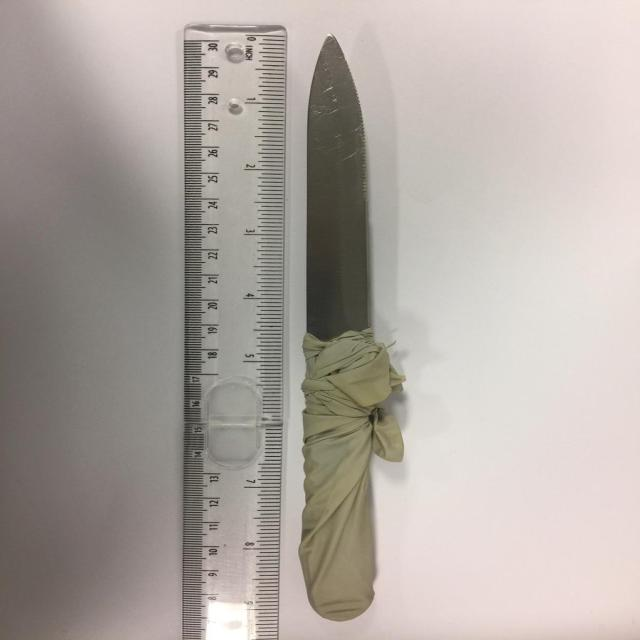Sharp-Object: (308, 31, 385, 624)
